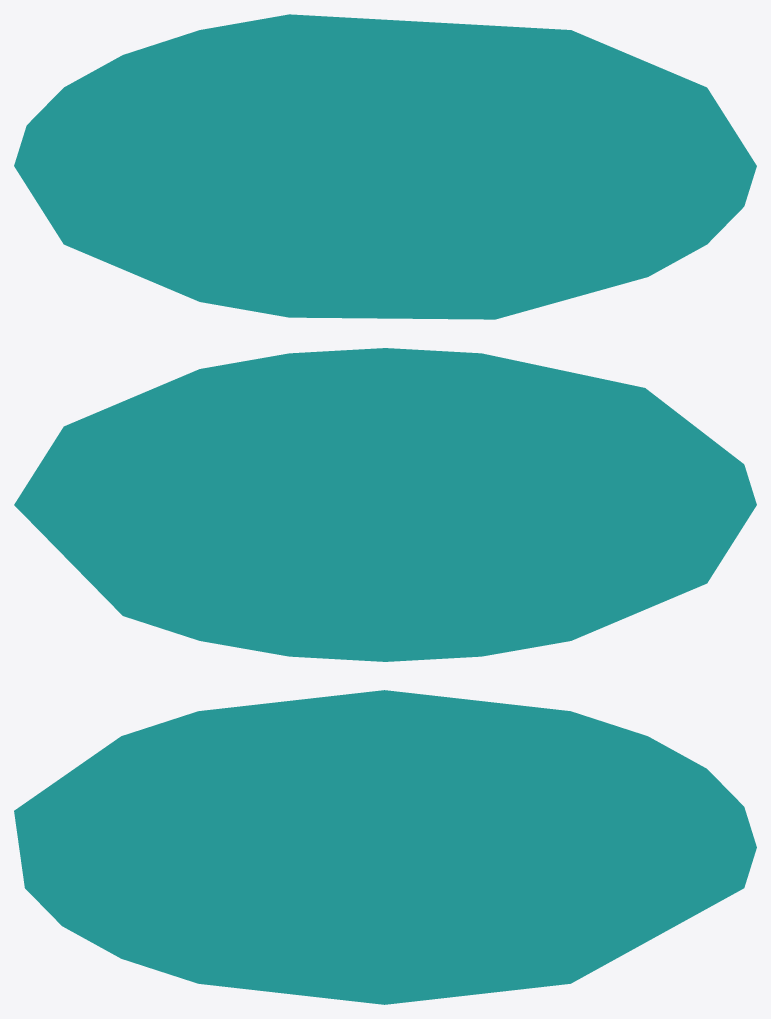
Rendered from frog_color_15.fbx.
3 renders of one model, top to bottom at view 1: azimuth 30°, elevation 25°; view 2: azimuth 150°, elevation 25°; view 3: azimuth 270°, elevation 25°, orthographic.
Visible parts, largest first — view 1: frog_color_15; view 2: frog_color_15; view 3: frog_color_15.
Boxes of the visible parts, x1,y1,x2,y2 form: frog_color_15: [14, 14, 756, 319]; frog_color_15: [14, 348, 756, 661]; frog_color_15: [14, 690, 756, 1004].
Bounding box in the file's own units: 18.85 × 0 × 18.8.
